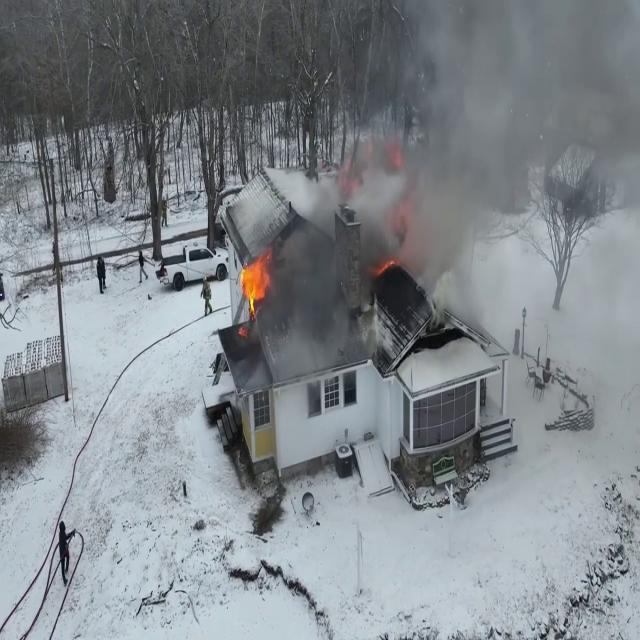Fire: (238, 242, 273, 320)
Smoke: (328, 0, 640, 318)
